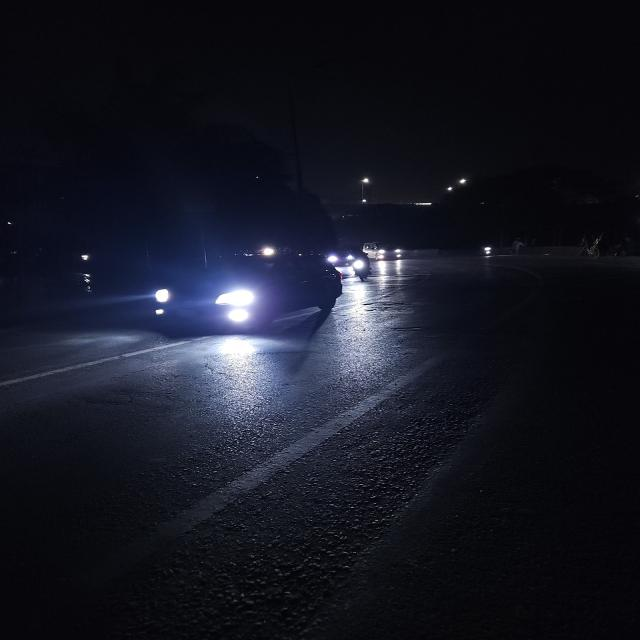car: (149, 248, 352, 339), (368, 243, 406, 261)
motorcycle: (350, 254, 376, 284)
